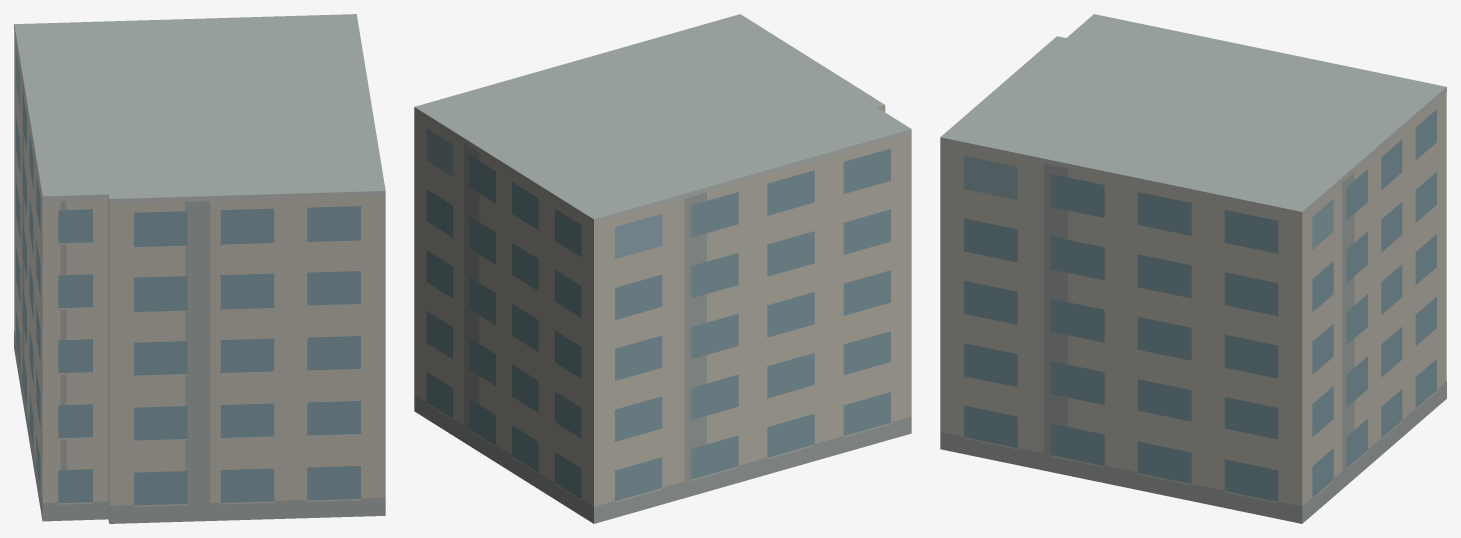
The model's file is residential-8f877557-fd68-4801-9505-c2d1cb784229.glb.
The picture shows the model from 3 angles, left to right: view 1: azimuth 30°, elevation 25°; view 2: azimuth 150°, elevation 25°; view 3: azimuth 270°, elevation 25°; orthographic projection. The views are drawn at different scales.
Visible parts, largest first — view 1: residential-8f877557-fd68-4801-9505-c2d1cb784229.tmp; view 2: residential-8f877557-fd68-4801-9505-c2d1cb784229.tmp; view 3: residential-8f877557-fd68-4801-9505-c2d1cb784229.tmp.
Part boxes in pixels (x1=…): residential-8f877557-fd68-4801-9505-c2d1cb784229.tmp: x1=14, y1=14, x2=385, y2=523; residential-8f877557-fd68-4801-9505-c2d1cb784229.tmp: x1=414, y1=14, x2=911, y2=523; residential-8f877557-fd68-4801-9505-c2d1cb784229.tmp: x1=940, y1=14, x2=1446, y2=523.
Size of the model in its own units: 20.43 by 15 by 22.09.
